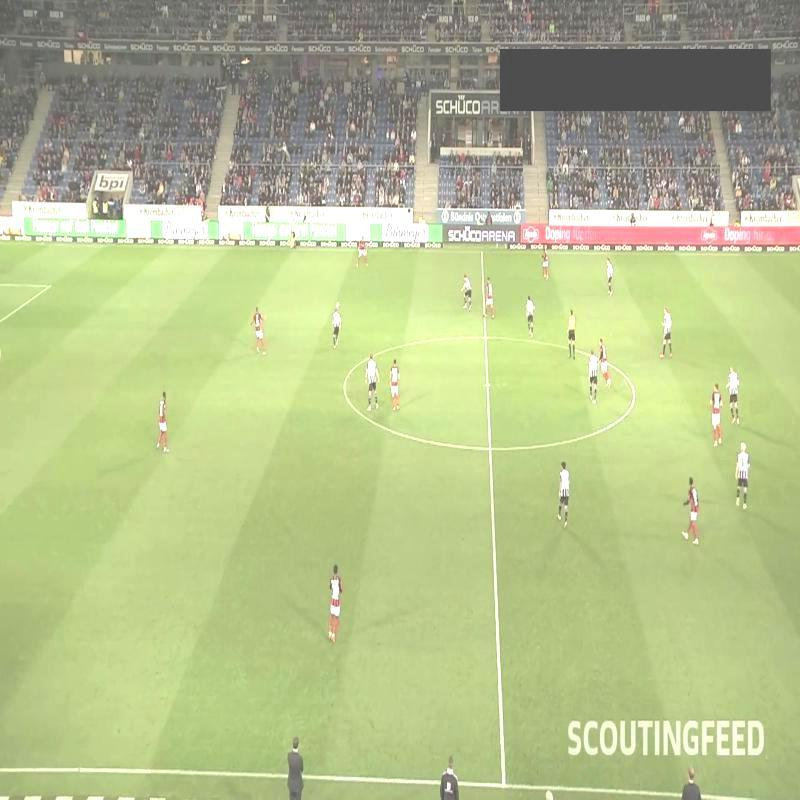13: (475, 244, 489, 258)
14: (476, 329, 493, 346)
15: (482, 441, 498, 456)
16: (491, 774, 515, 797)
9: (42, 278, 56, 292)
c: (625, 384, 644, 408), (339, 376, 353, 390)
